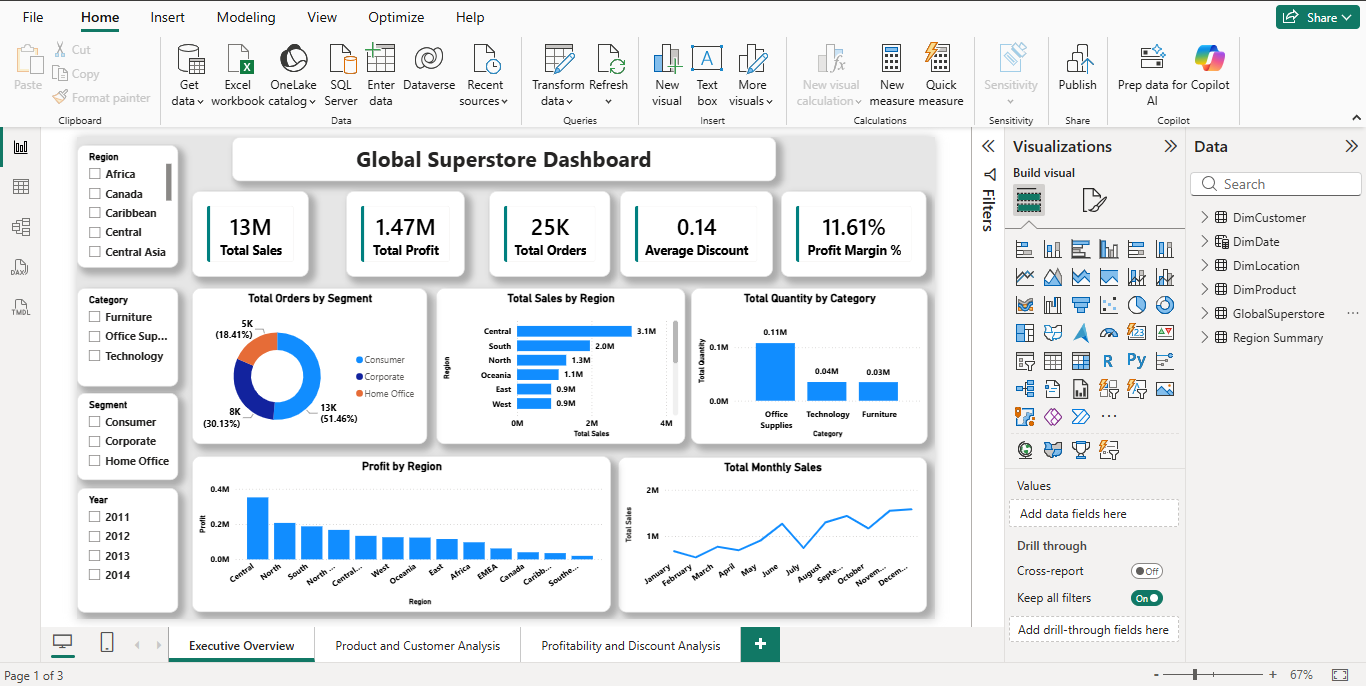

Layout of this report page (visuals, bound fields, positions):
{"tool":"powerbi","page":{"name":"Executive Overview","canvas":[1280,720],"ordinal":0},"visuals":[{"type":"textbox","box":[231.8,0,812.2,66.2],"z":0},{"type":"cardVisual","title":"Total Sales","fields":{"Data":["GlobalSuperstore.Total Sales"]},"box":[171.4,80.6,174.2,128.2],"z":1000},{"type":"cardVisual","fields":{"Data":["GlobalSuperstore.Total Profit"]},"box":[401.8,80.6,177.1,128.2],"z":2000},{"type":"cardVisual","fields":{"Data":["GlobalSuperstore.Total Orders"]},"box":[614.9,80.6,181.4,128.2],"z":3000},{"type":"cardVisual","fields":{"Data":["GlobalSuperstore.Average Discount"]},"box":[810.7,80.6,227.5,128.2],"z":4000},{"type":"cardVisual","fields":{"Data":["GlobalSuperstore.Profit Margin %"]},"box":[1051.2,80.6,217.4,128.2],"z":5000},{"type":"lineChart","title":"Total Monthly Sales ","fields":{"Category":["DimDate.Month Name"],"Y":["GlobalSuperstore.Total Sales"]},"box":[807.8,478.1,460.8,231.8],"z":6000},{"type":"clusteredBarChart","fields":{"Category":["DimLocation.Region"],"Y":["GlobalSuperstore.Total Sales"]},"box":[535.7,224.6,371.5,233.3],"z":7000},{"type":"lineStackedColumnComboChart","fields":{"Category":["GlobalSuperstore.Category"],"Y":["GlobalSuperstore.Total Quantity"]},"box":[915.8,224.6,352.8,233.3],"z":8000},{"type":"clusteredColumnChart","title":"Profit by Region","fields":{"Category":["DimLocation.Region"],"Y":["GlobalSuperstore.Total Profit"]},"box":[171.4,476.6,625,233.3],"z":9000},{"type":"donutChart","fields":{"Category":["GlobalSuperstore.Segment"],"Y":["GlobalSuperstore.Total Orders"]},"box":[171.4,224.6,351.4,233.3],"z":10000},{"type":"slicer","fields":{"Values":["GlobalSuperstore.Region"]},"box":[0,11.5,151.2,182.9],"z":11000},{"type":"slicer","fields":{"Values":["GlobalSuperstore.Category"]},"box":[0,224.6,151.2,146.9],"z":12000},{"type":"slicer","fields":{"Values":["GlobalSuperstore.Segment"]},"box":[0,381.6,151.2,129.6],"z":13000},{"type":"slicer","fields":{"Values":["GlobalSuperstore.Year"]},"box":[0,524.2,151.2,185.8],"z":14000}]}

Visuals, with their boxes on the page's 1280x720 design canvas (x1, y1, x2, y2). These are canvas units, not pixel positions in the 1366x686 screenshot, which may show the page scaled, cropped or inside an application window:
textbox: x1=232, y1=0, x2=1044, y2=66
"Total Sales" cardVisual: x1=171, y1=81, x2=346, y2=209
cardVisual - GlobalSuperstore.Total Profit: x1=402, y1=81, x2=579, y2=209
cardVisual - GlobalSuperstore.Total Orders: x1=615, y1=81, x2=796, y2=209
cardVisual - GlobalSuperstore.Average Discount: x1=811, y1=81, x2=1038, y2=209
cardVisual - GlobalSuperstore.Profit Margin %: x1=1051, y1=81, x2=1269, y2=209
"Total Monthly Sales " lineChart: x1=808, y1=478, x2=1269, y2=710
clusteredBarChart - DimLocation.Region x GlobalSuperstore.Total Sales: x1=536, y1=225, x2=907, y2=458
lineStackedColumnComboChart - GlobalSuperstore.Category x GlobalSuperstore.Total Quantity: x1=916, y1=225, x2=1269, y2=458
"Profit by Region" clusteredColumnChart: x1=171, y1=477, x2=796, y2=710
donutChart - GlobalSuperstore.Segment x GlobalSuperstore.Total Orders: x1=171, y1=225, x2=523, y2=458
slicer - GlobalSuperstore.Region: x1=0, y1=12, x2=151, y2=194
slicer - GlobalSuperstore.Category: x1=0, y1=225, x2=151, y2=372
slicer - GlobalSuperstore.Segment: x1=0, y1=382, x2=151, y2=511
slicer - GlobalSuperstore.Year: x1=0, y1=524, x2=151, y2=710
